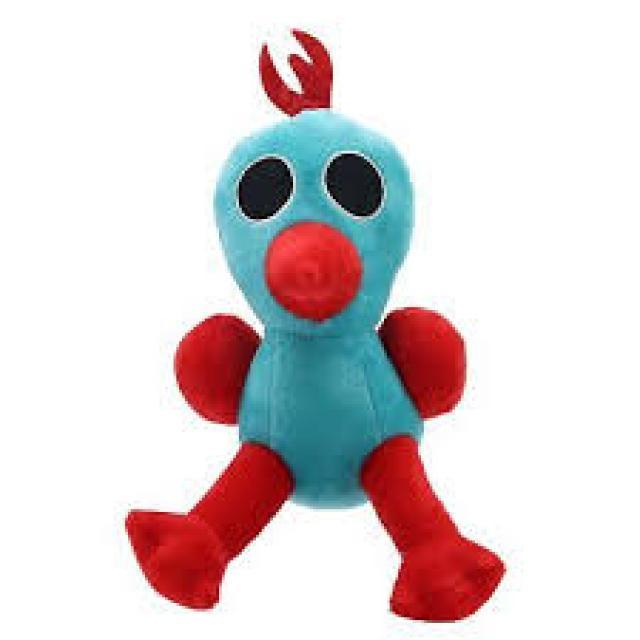soft-toy: (127, 32, 506, 622)
